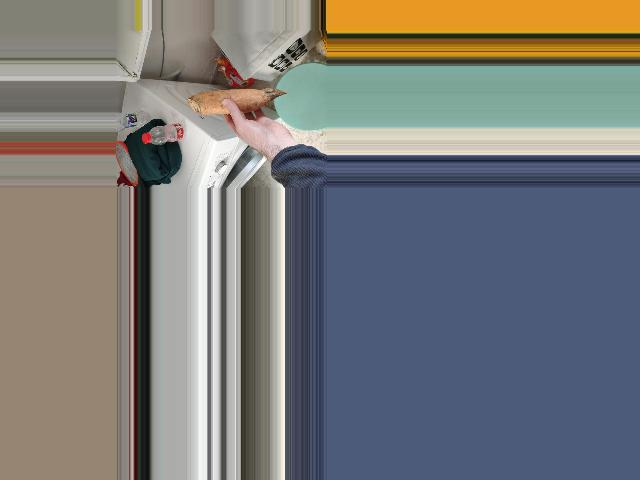sweet_potato: (197, 89, 284, 120)
